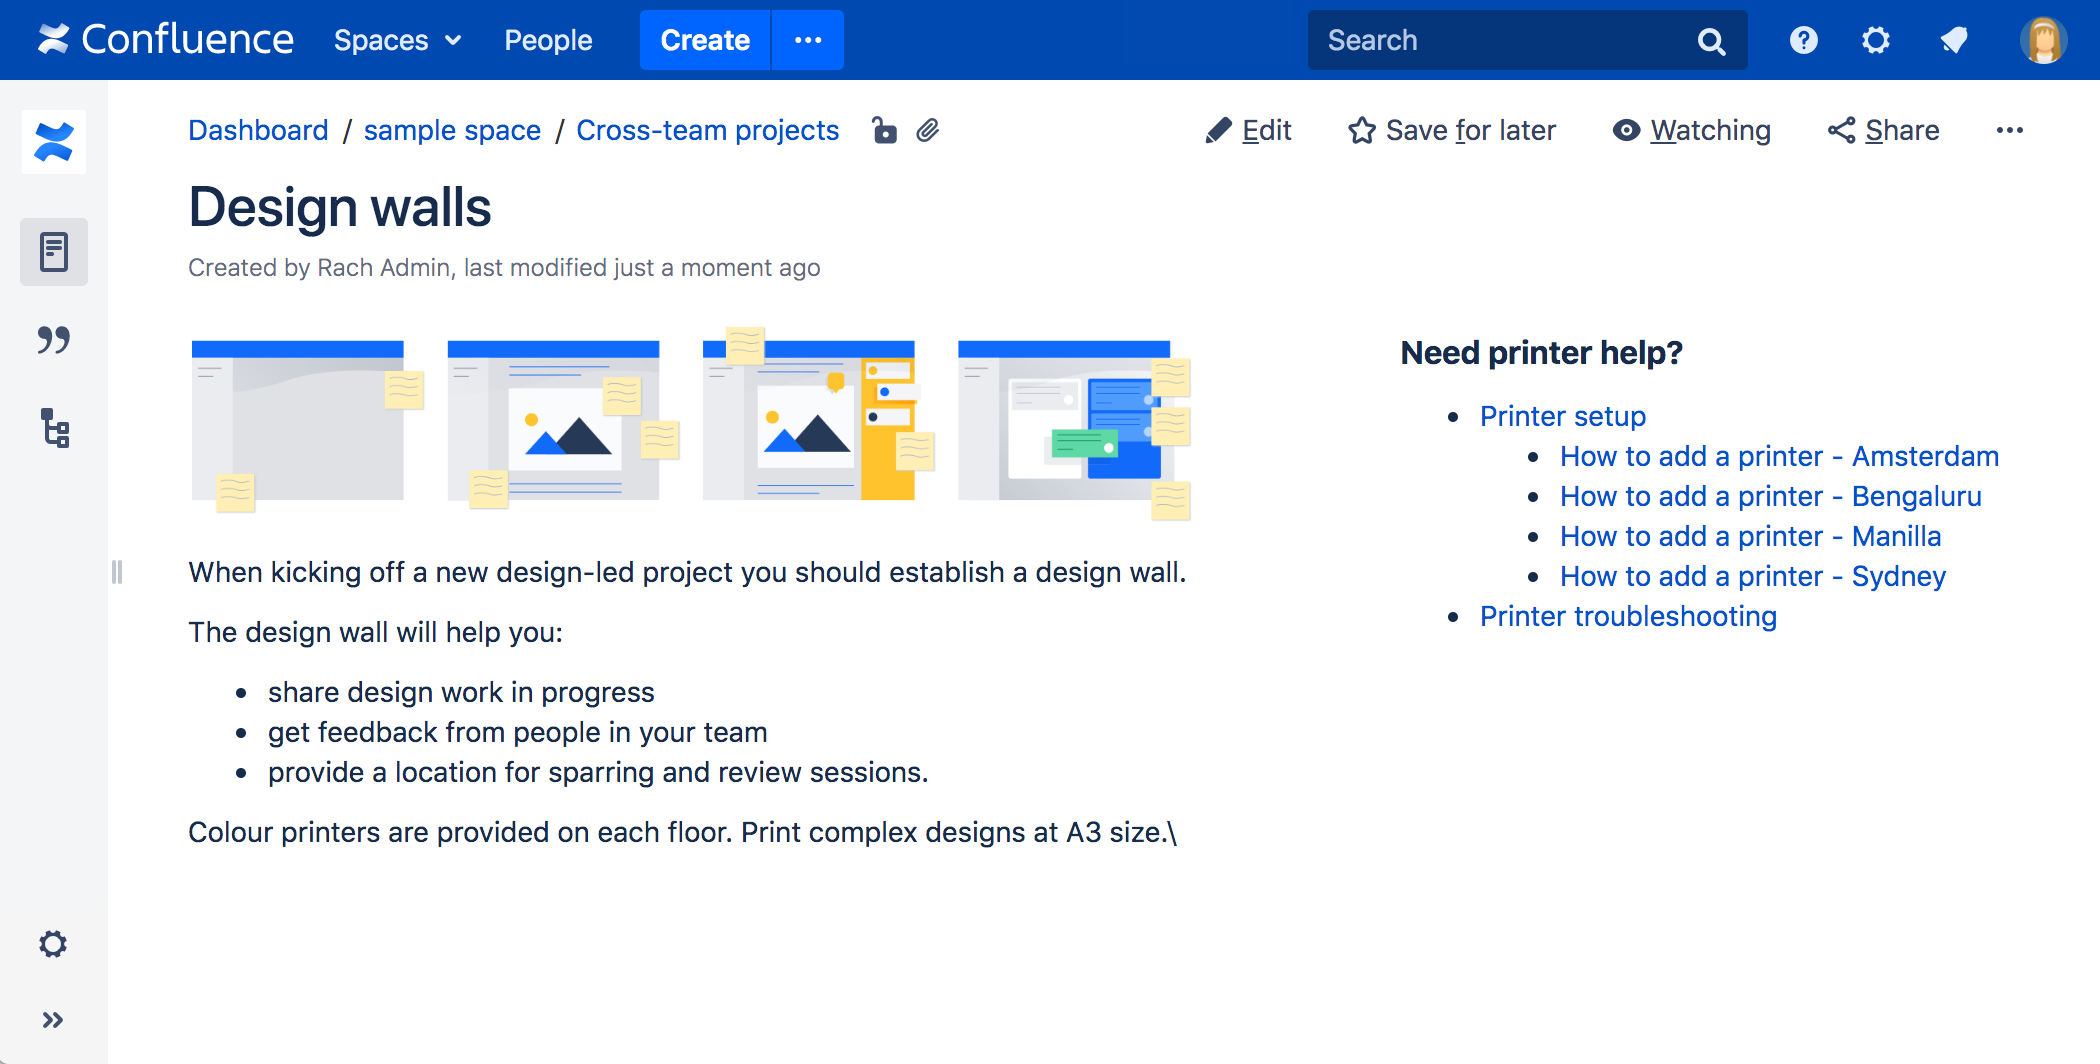button_create: (640, 5, 772, 71)
search_box: (1308, 4, 1759, 77)
